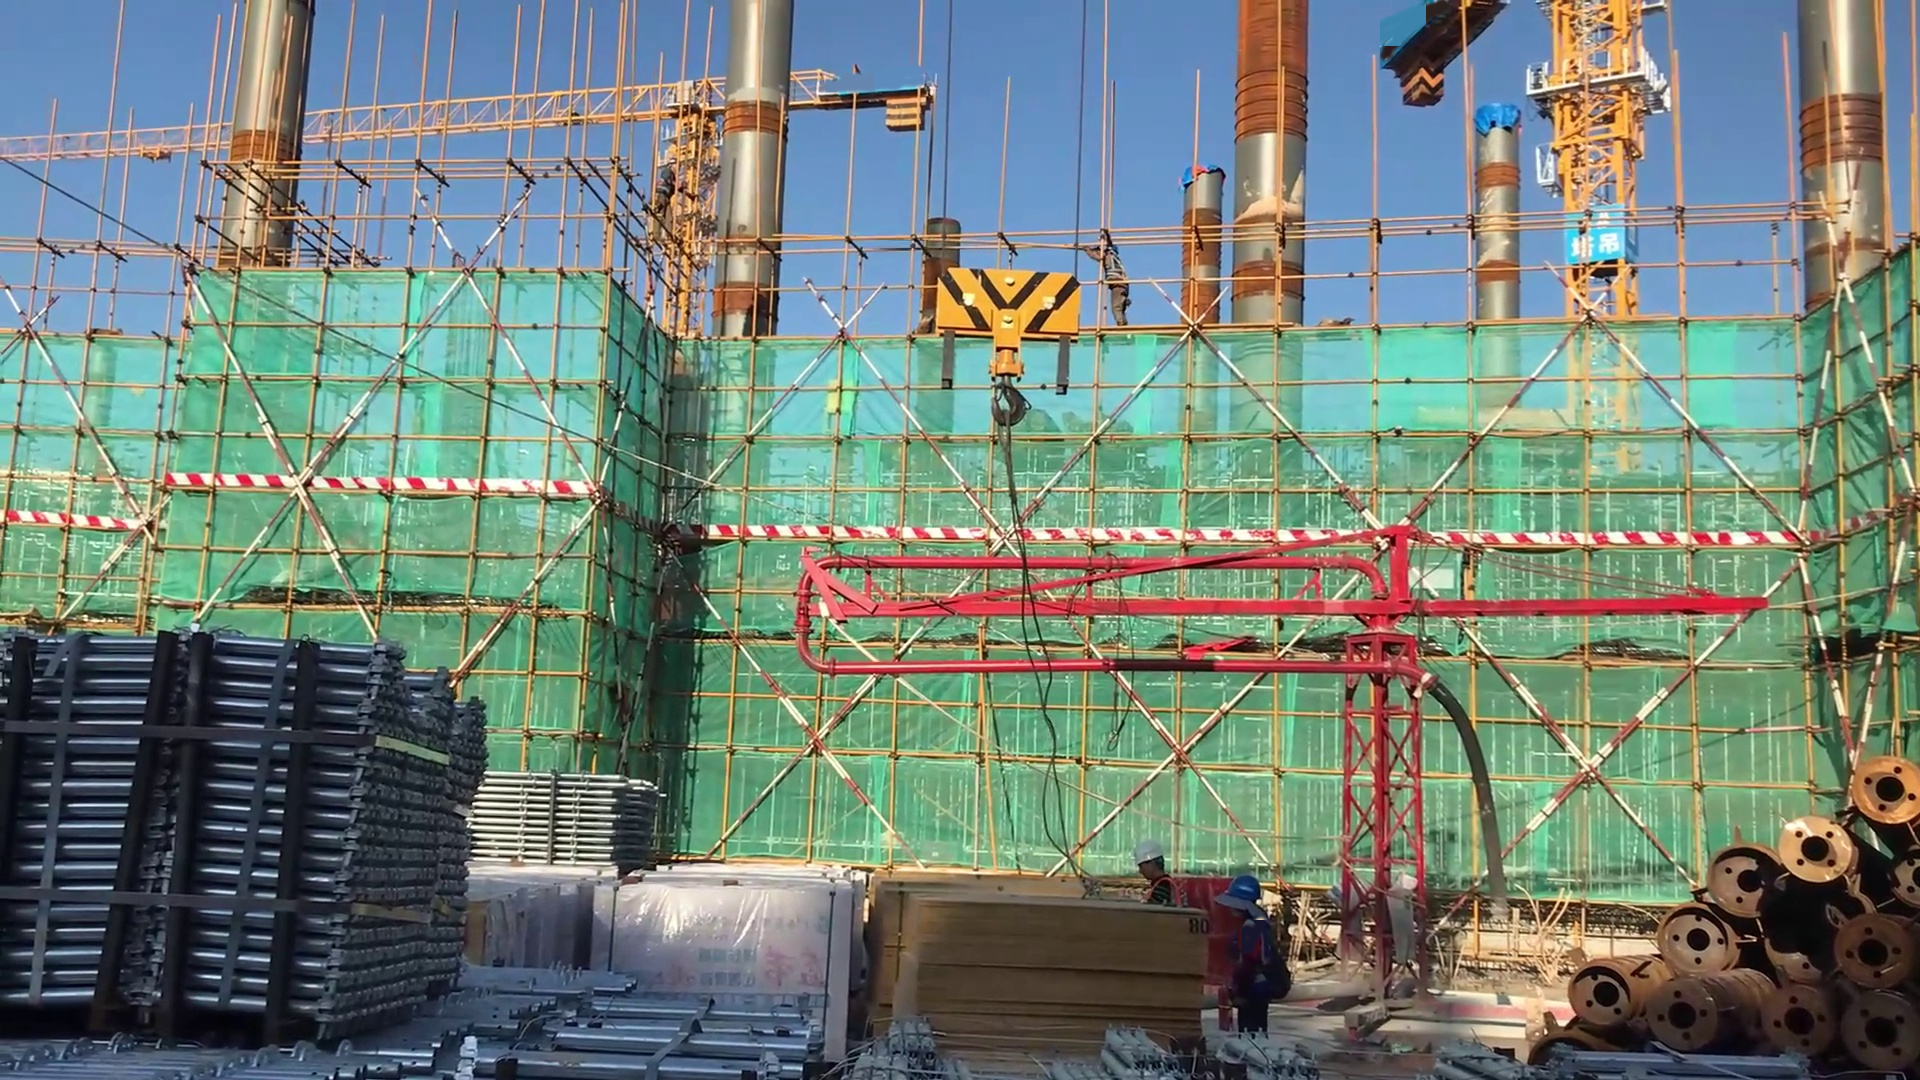board: (870, 869, 1211, 1056)
helmet: (1224, 871, 1267, 909), (1126, 839, 1174, 870), (1100, 237, 1125, 259)
hook: (900, 246, 1112, 455)
person: (1218, 871, 1291, 1046), (1071, 227, 1148, 349), (1080, 841, 1188, 915)
scaffold: (1, 635, 494, 1027), (1, 955, 641, 1080), (496, 948, 825, 1080), (827, 1012, 1200, 1080), (450, 770, 661, 866), (1534, 1024, 1807, 1080), (1201, 1017, 1333, 1080)
slogan: (1556, 213, 1643, 288)
vest: (1232, 917, 1283, 1008), (1142, 877, 1183, 911), (1104, 256, 1130, 285)
